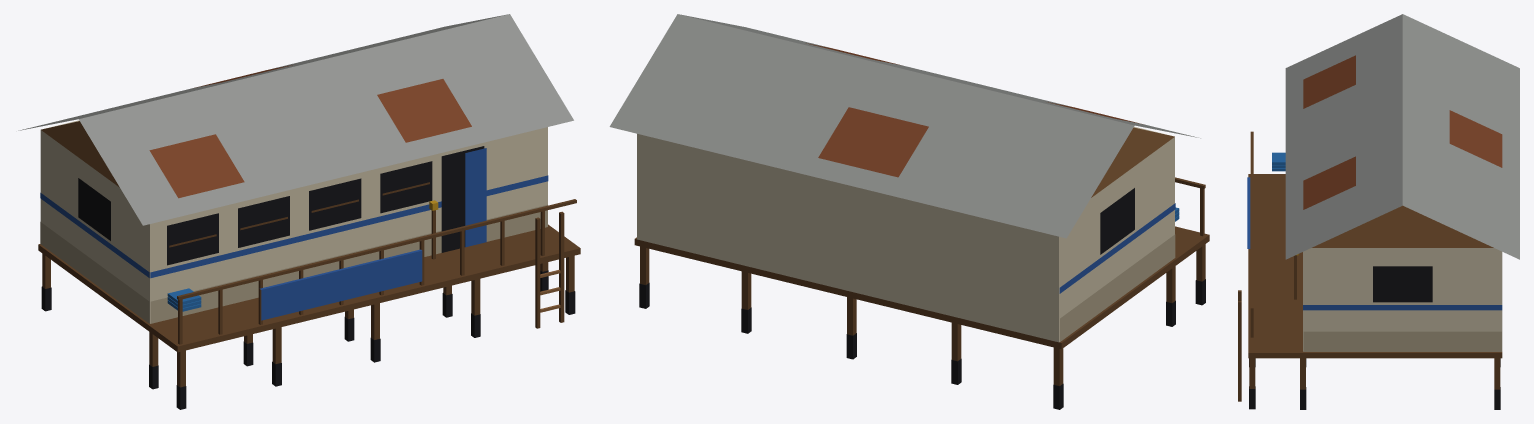
The model's file is building_makoko-school.fba802982af2.glb.
The picture shows the model from 3 angles, left to right: view 1: azimuth 30°, elevation 25°; view 2: azimuth 150°, elevation 25°; view 3: azimuth 270°, elevation 25°; orthographic projection. The views are drawn at different scales.
Visible parts, largest first — view 1: body; view 2: body; view 3: body.
Part boxes in pixels (x1=…): body: x1=18, y1=14, x2=580, y2=409; body: x1=609, y1=14, x2=1209, y2=409; body: x1=1238, y1=14, x2=1519, y2=409.
Size of the model in its own units: 9.1 by 4.7 by 5.65.
